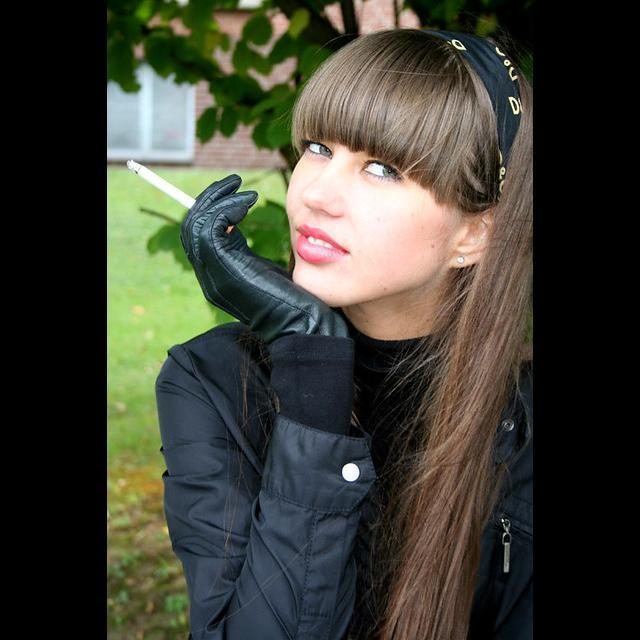rokok: (124, 154, 206, 218)
